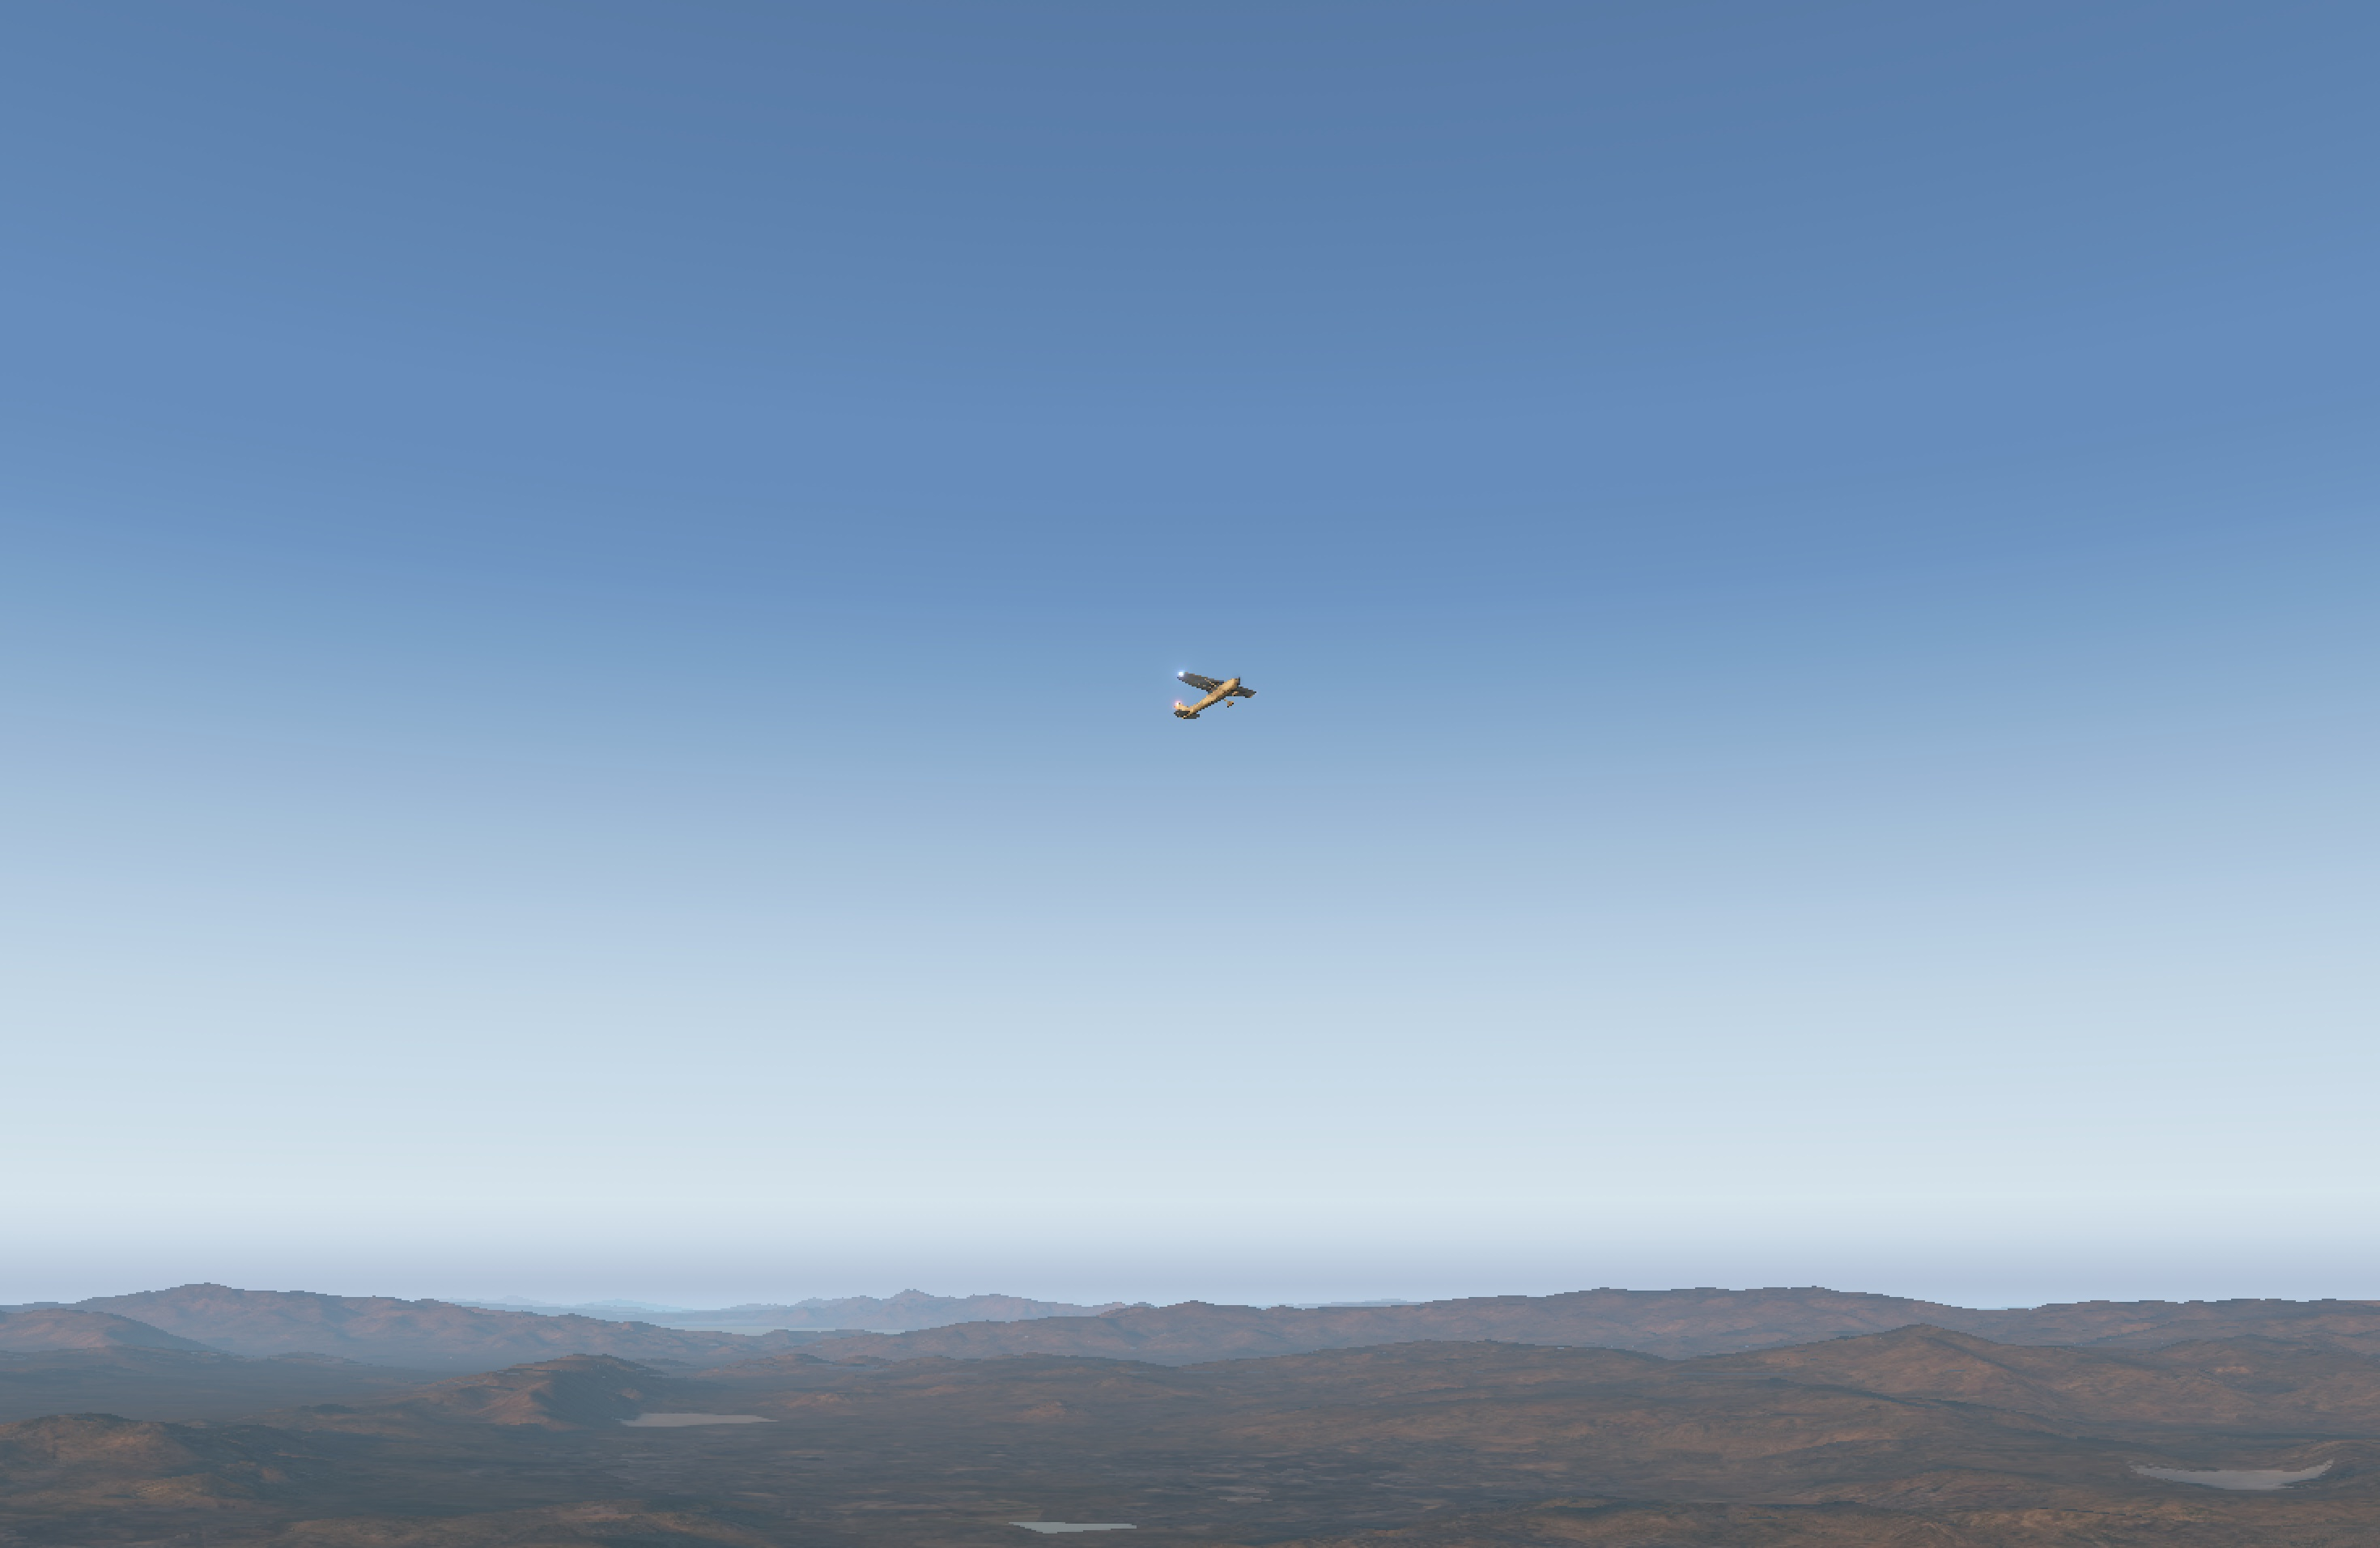aircraft: (1180, 673, 1263, 706)
